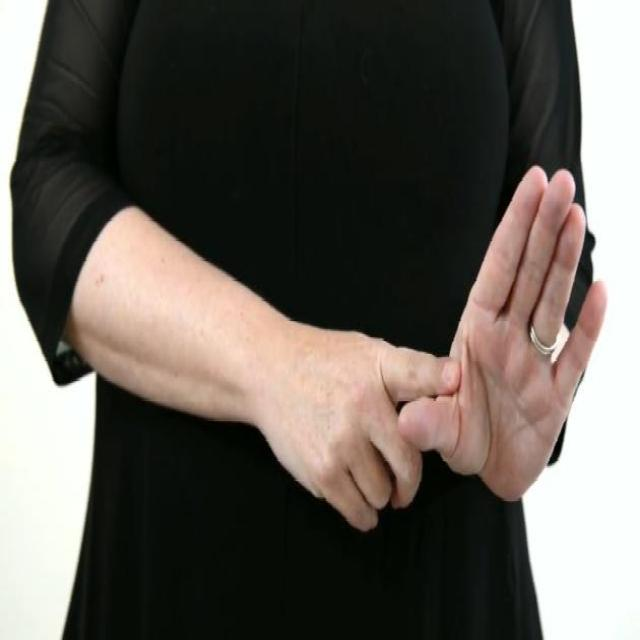Y: (302, 163, 610, 544)
